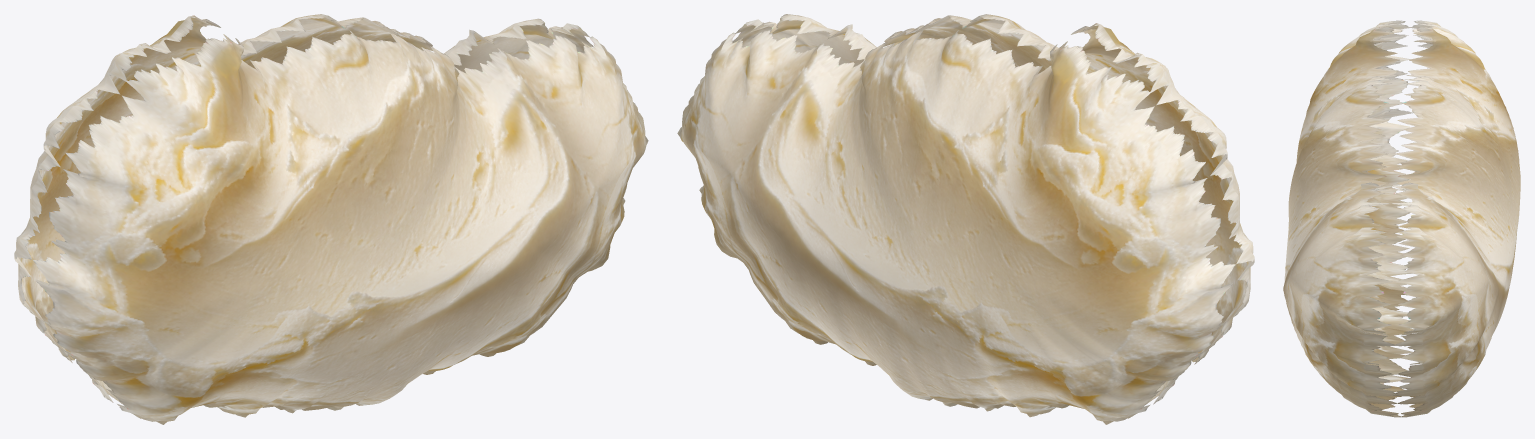
Rendered from queso-crema.glb.
3 renders of one model, left to right at view 1: azimuth 30°, elevation 25°; view 2: azimuth 150°, elevation 25°; view 3: azimuth 270°, elevation 25°, orthographic. The views are drawn at different scales.
Visible parts, largest first — view 1: queso-crema; view 2: queso-crema; view 3: queso-crema.
Boxes of the visible parts, left/top/right/bottom form: queso-crema: left=14, top=14, right=648, bottom=424; queso-crema: left=677, top=14, right=1254, bottom=424; queso-crema: left=1283, top=20, right=1520, bottom=417.
Size of the model in its own units: 1.98 by 1.31 by 0.9004.
1 material, 1 textured.
